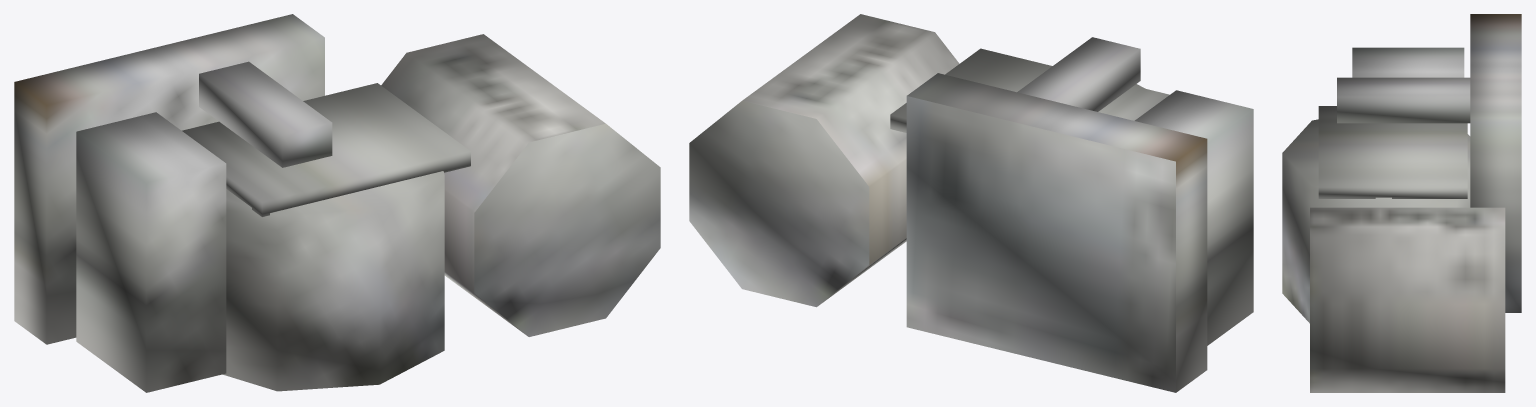
The model's file is dextre_arm_1_wrist_pitch_yaw.dae.
3 views of the same model, side by side, from view 1: azimuth 30°, elevation 25°; view 2: azimuth 150°, elevation 25°; view 3: azimuth 270°, elevation 25° (orthographic). The views are drawn at different scales.
Parts seen in each view (by area): view 1: 29 DEXTRE.014; view 2: 29 DEXTRE.014; view 3: 29 DEXTRE.014.
Boxes of the visible parts, <box> form: 29 DEXTRE.014: <box>14,14,660,392</box>; 29 DEXTRE.014: <box>689,14,1253,392</box>; 29 DEXTRE.014: <box>1282,14,1521,392</box>.
Bounding box in the file's own units: 0.7049 × 0.357 × 0.3297.
1 material, 1 textured.
